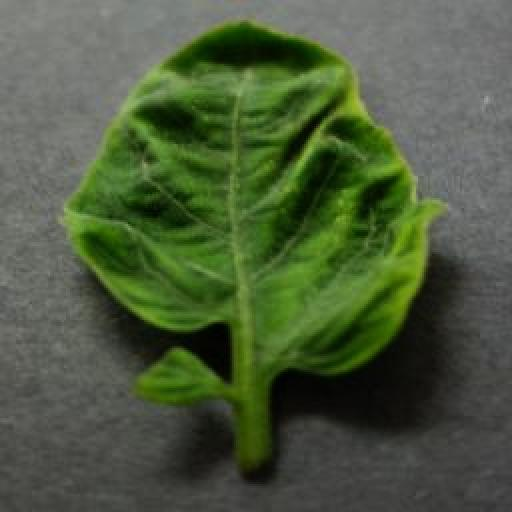disease_tomato: (62, 18, 452, 382)
